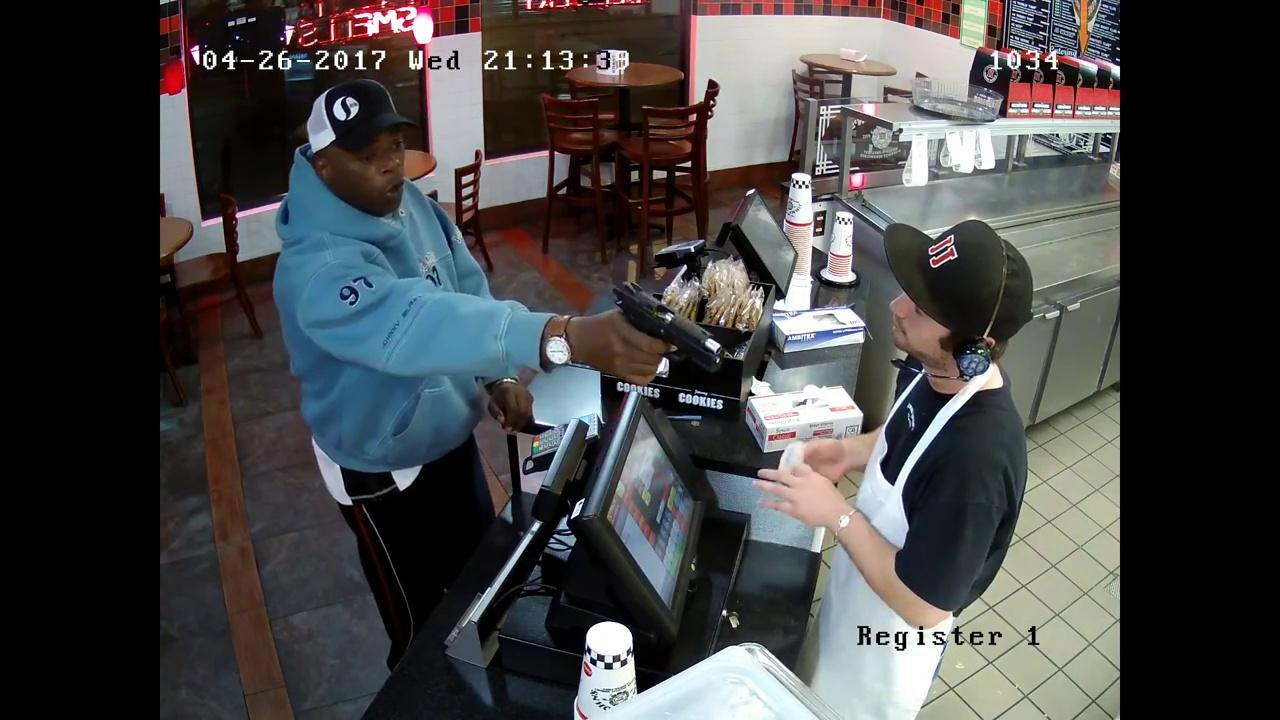Guns perspective: (584, 273, 743, 381)
